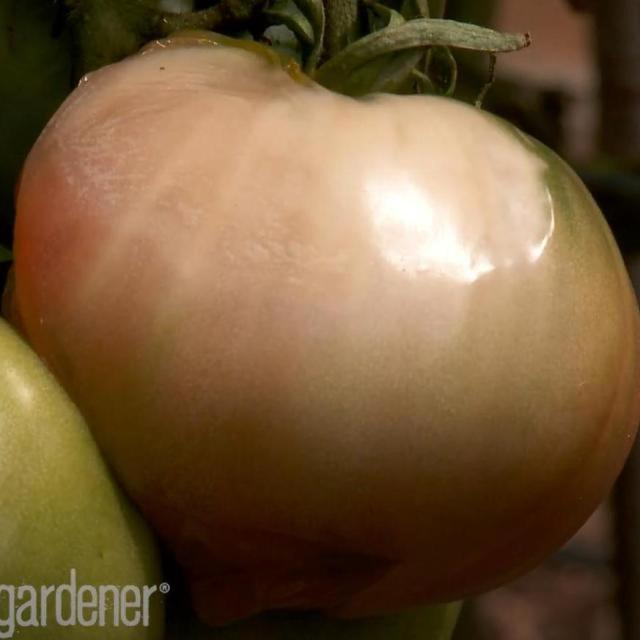Sunscald Fruit: (21, 21, 385, 216)
